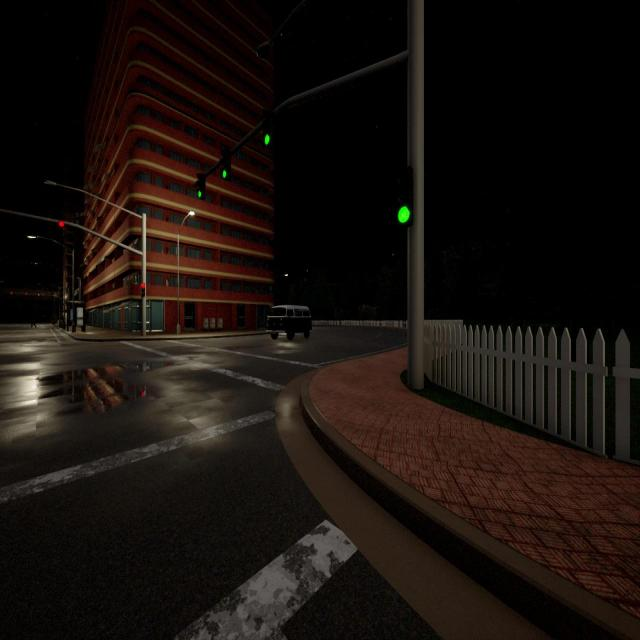Pedestrian: (30, 311, 37, 329)
Vehicle: (267, 305, 312, 340)
traffic_light: (396, 167, 414, 227), (220, 154, 232, 181), (196, 173, 206, 200), (264, 133, 271, 147), (141, 283, 145, 297), (59, 220, 64, 228), (25, 292, 27, 295), (42, 293, 44, 296), (10, 292, 12, 294)
